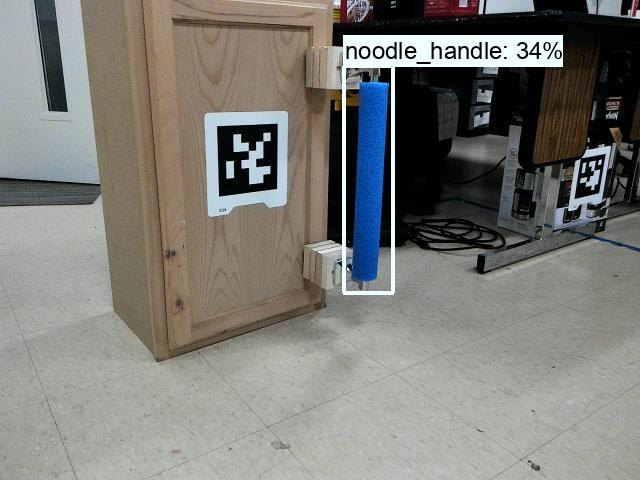noodle_handle: (346, 70, 393, 287)
